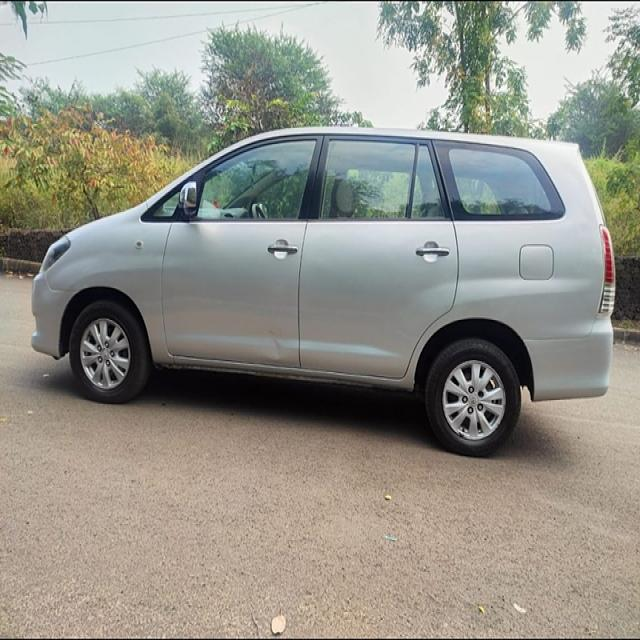light_vehicle: (31, 127, 616, 457)
